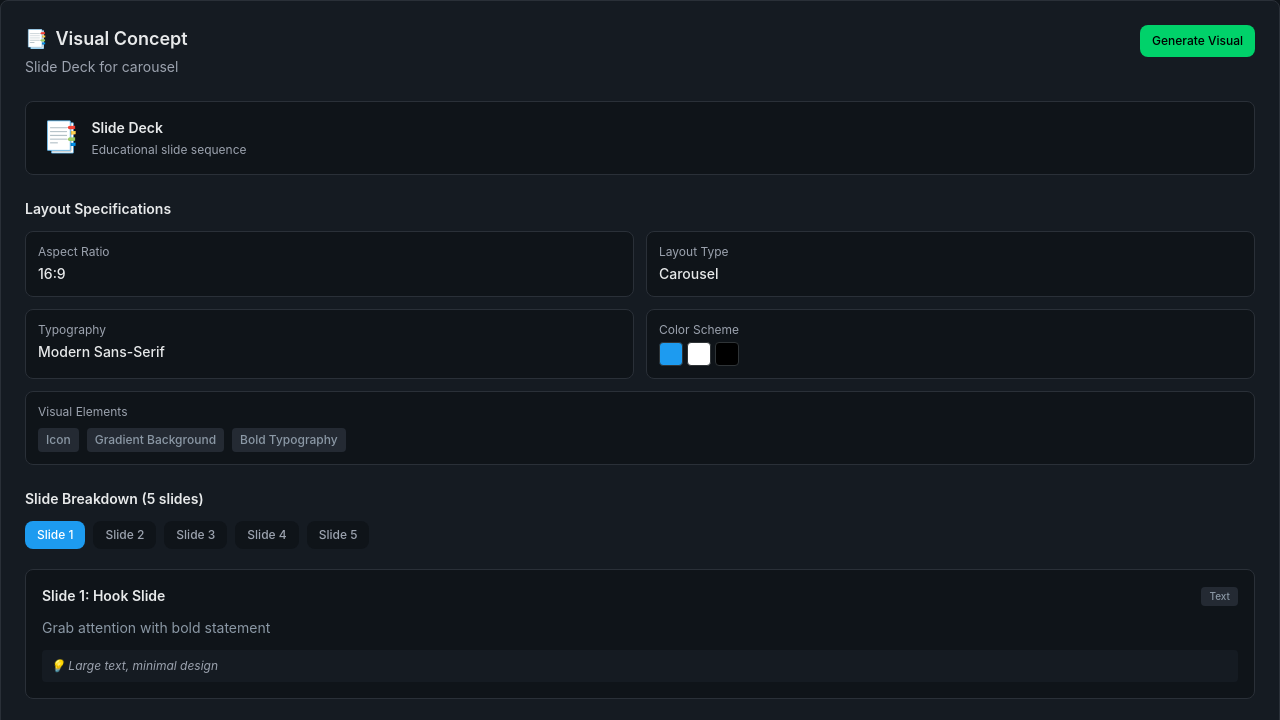
Test case: VisualConcept › Slide Breakdown (Carousel/Thread) › switches active slide when navigation clicked
Click the button "Slide 2": (125, 535) [94,521,156,549]
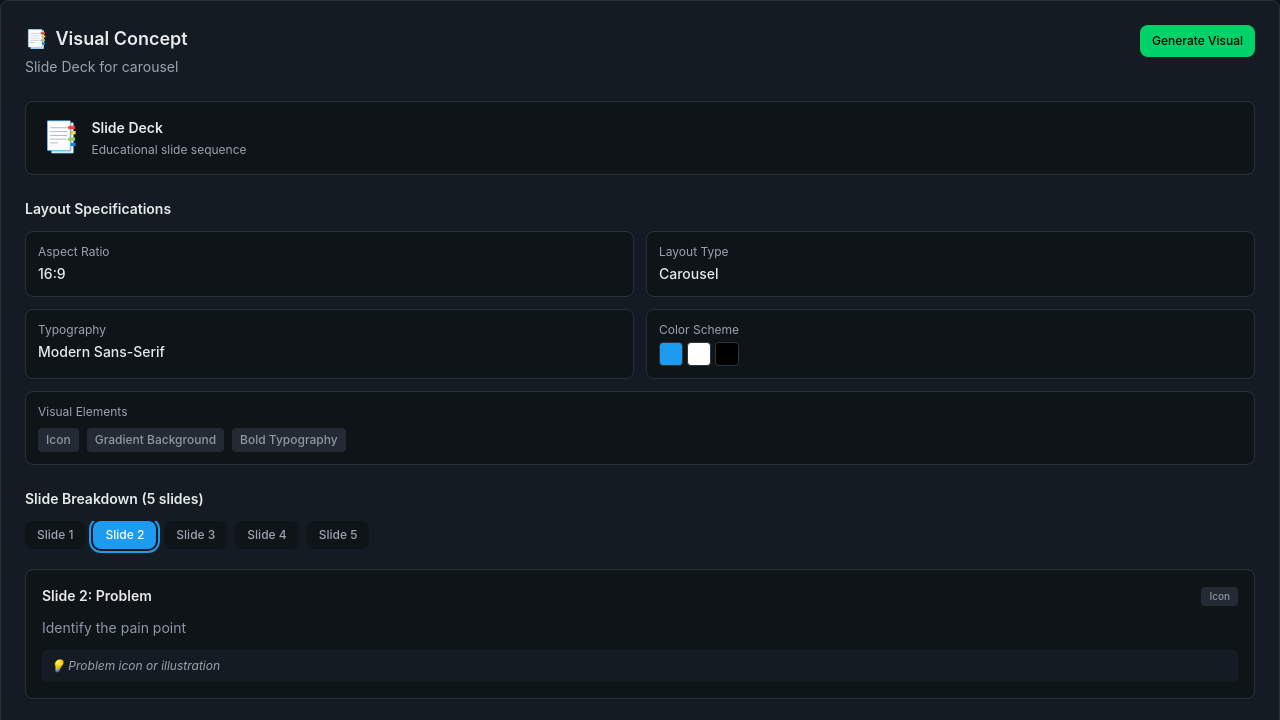
Expected: the heading "Slide 2: Problem" is shown, [42,586,152,606]
